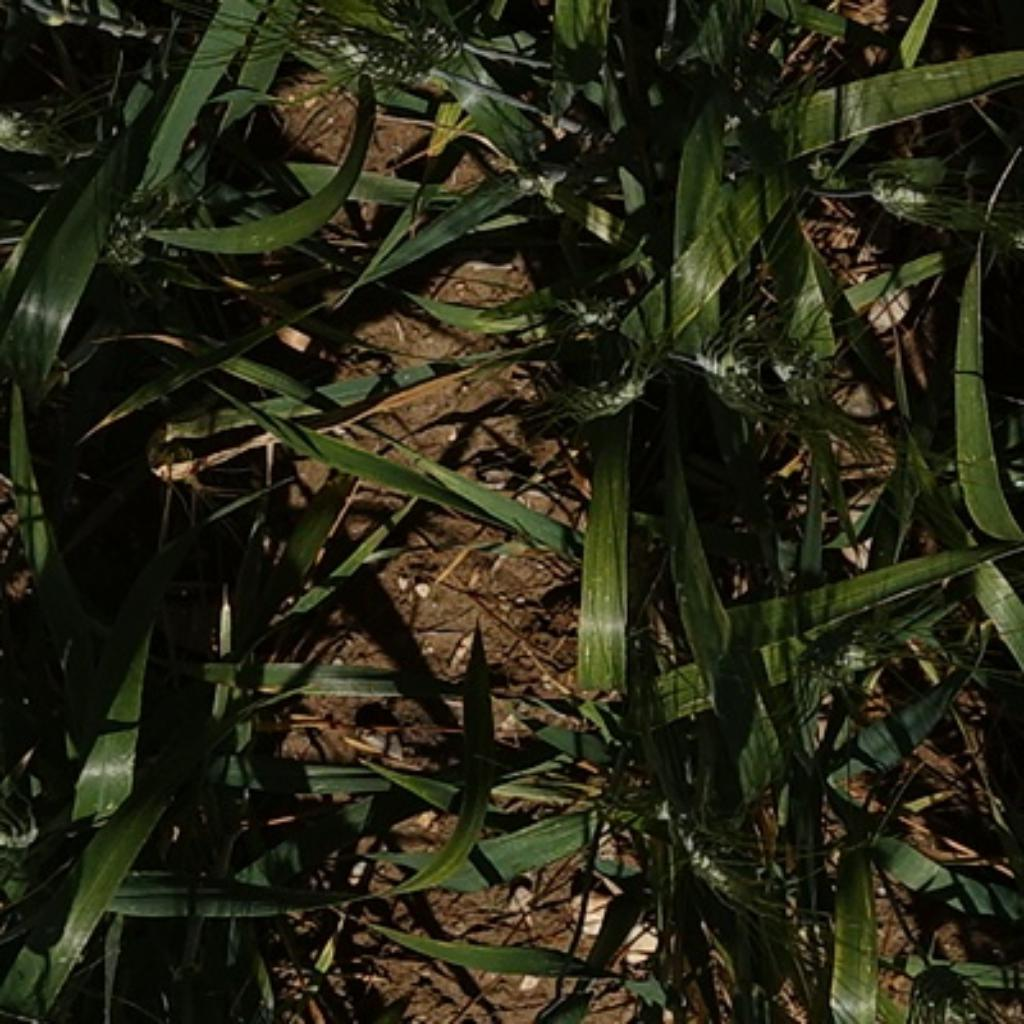0-0: (634, 762, 801, 934), (778, 570, 960, 711), (768, 348, 893, 478), (683, 296, 819, 414), (303, 0, 475, 92), (92, 161, 186, 266), (535, 350, 665, 422), (902, 949, 1005, 1023), (586, 744, 675, 829), (683, 330, 775, 409), (862, 148, 952, 220), (0, 778, 53, 865), (0, 108, 63, 175), (629, 0, 747, 5)
